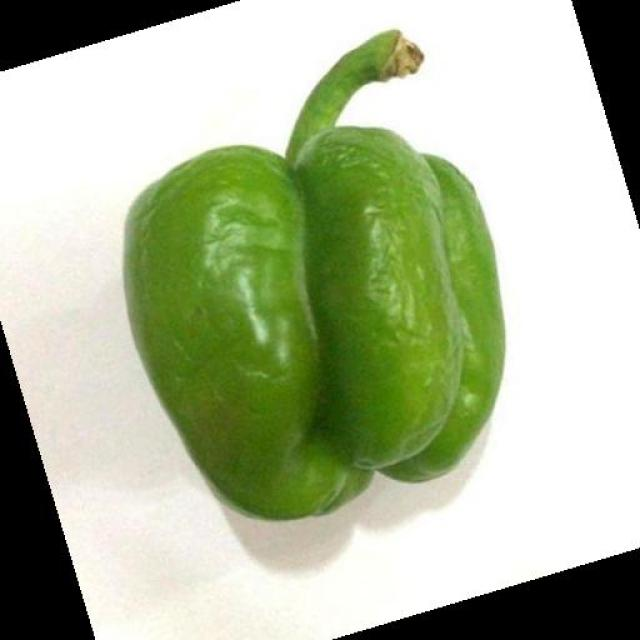Fresh_Capsicum: (135, 39, 567, 463)
